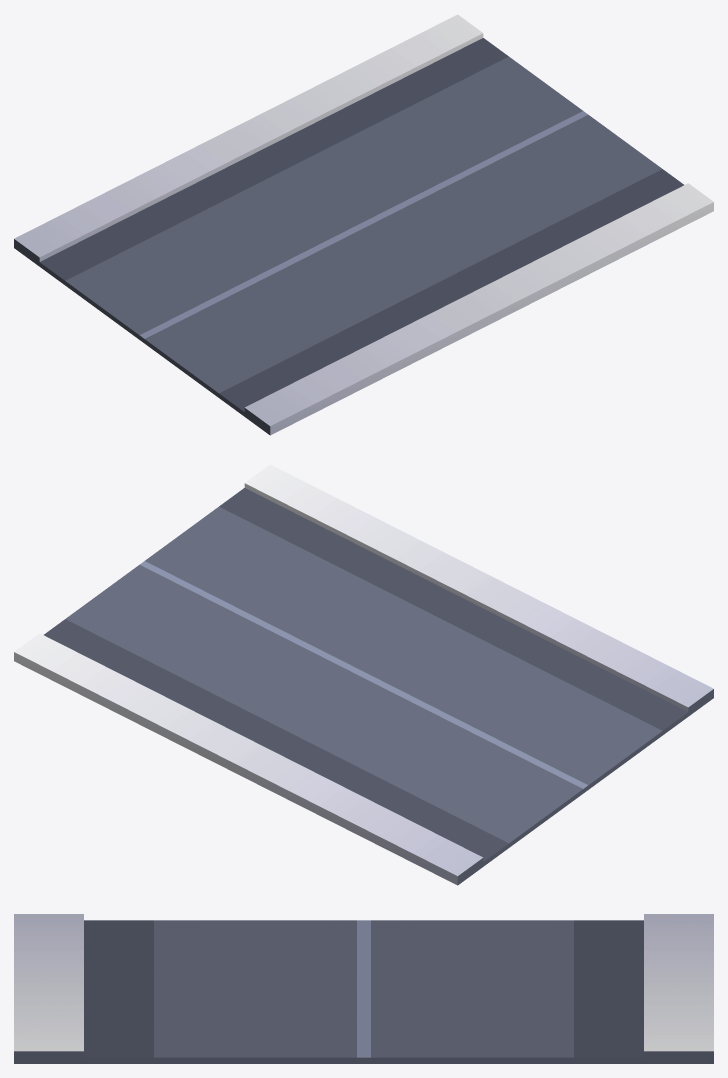
The model's file is road-slant-flat.glb.
3 renders of one model, top to bottom at view 1: azimuth 30°, elevation 25°; view 2: azimuth 150°, elevation 25°; view 3: azimuth 270°, elevation 25°, orthographic. The views are drawn at different scales.
Visible parts, largest first — view 1: road-slant-flat; view 2: road-slant-flat; view 3: road-slant-flat.
Boxes of the visible parts, <box> form: road-slant-flat: <box>14,14,713,435</box>; road-slant-flat: <box>14,464,713,885</box>; road-slant-flat: <box>14,914,713,1063</box>.
Size of the model in its own units: 1 by 0.27 by 1.
Materials: 1 (1 with a texture image).
